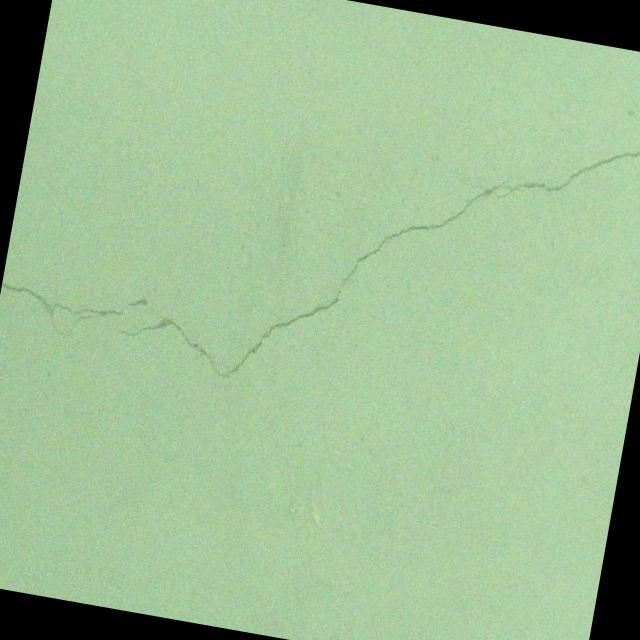crack: (103, 52, 640, 449), (0, 281, 126, 346)
